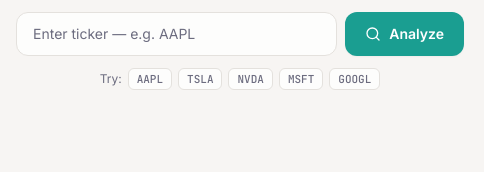
it: TickerInput › shows inline error on empty submission
Click the button "Analyze" at (405, 34), box [345,12,464,56]
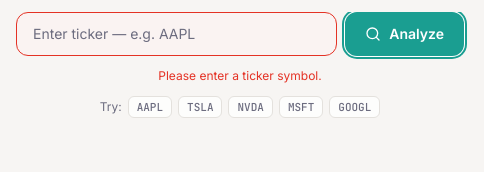
expect the message "Please enter a ticker symbol." is shown: met, box [158,68,322,83]
